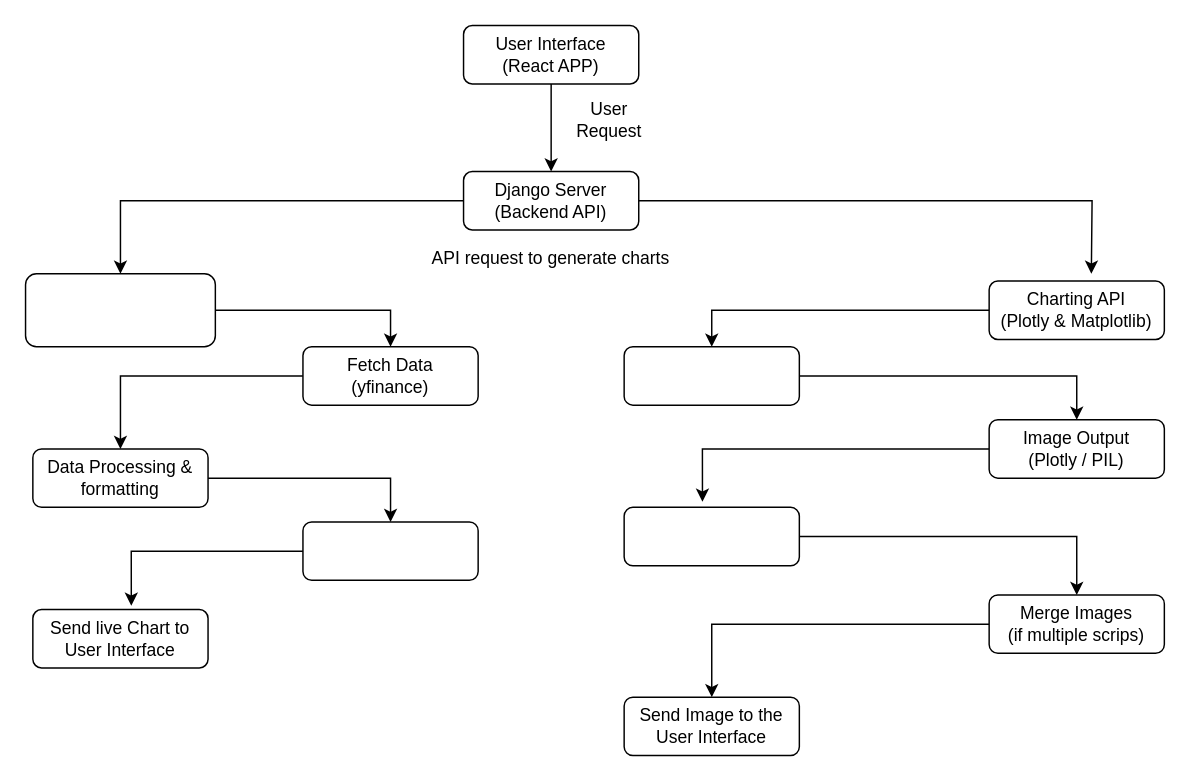
The diagram is 1190 pixels wide and 781 high, and some of its shapes have lost their labels. Each missing label, with the box of its shape:
Chat Generation & Image Output: (623, 345, 799, 405)
Chat Generation (Plotly/Matplotlib): (301, 520, 478, 580)
Python Script (Data fetch & Chat generation loop): (24, 272, 215, 347)
Store Images in Image Repository: (623, 506, 799, 566)
